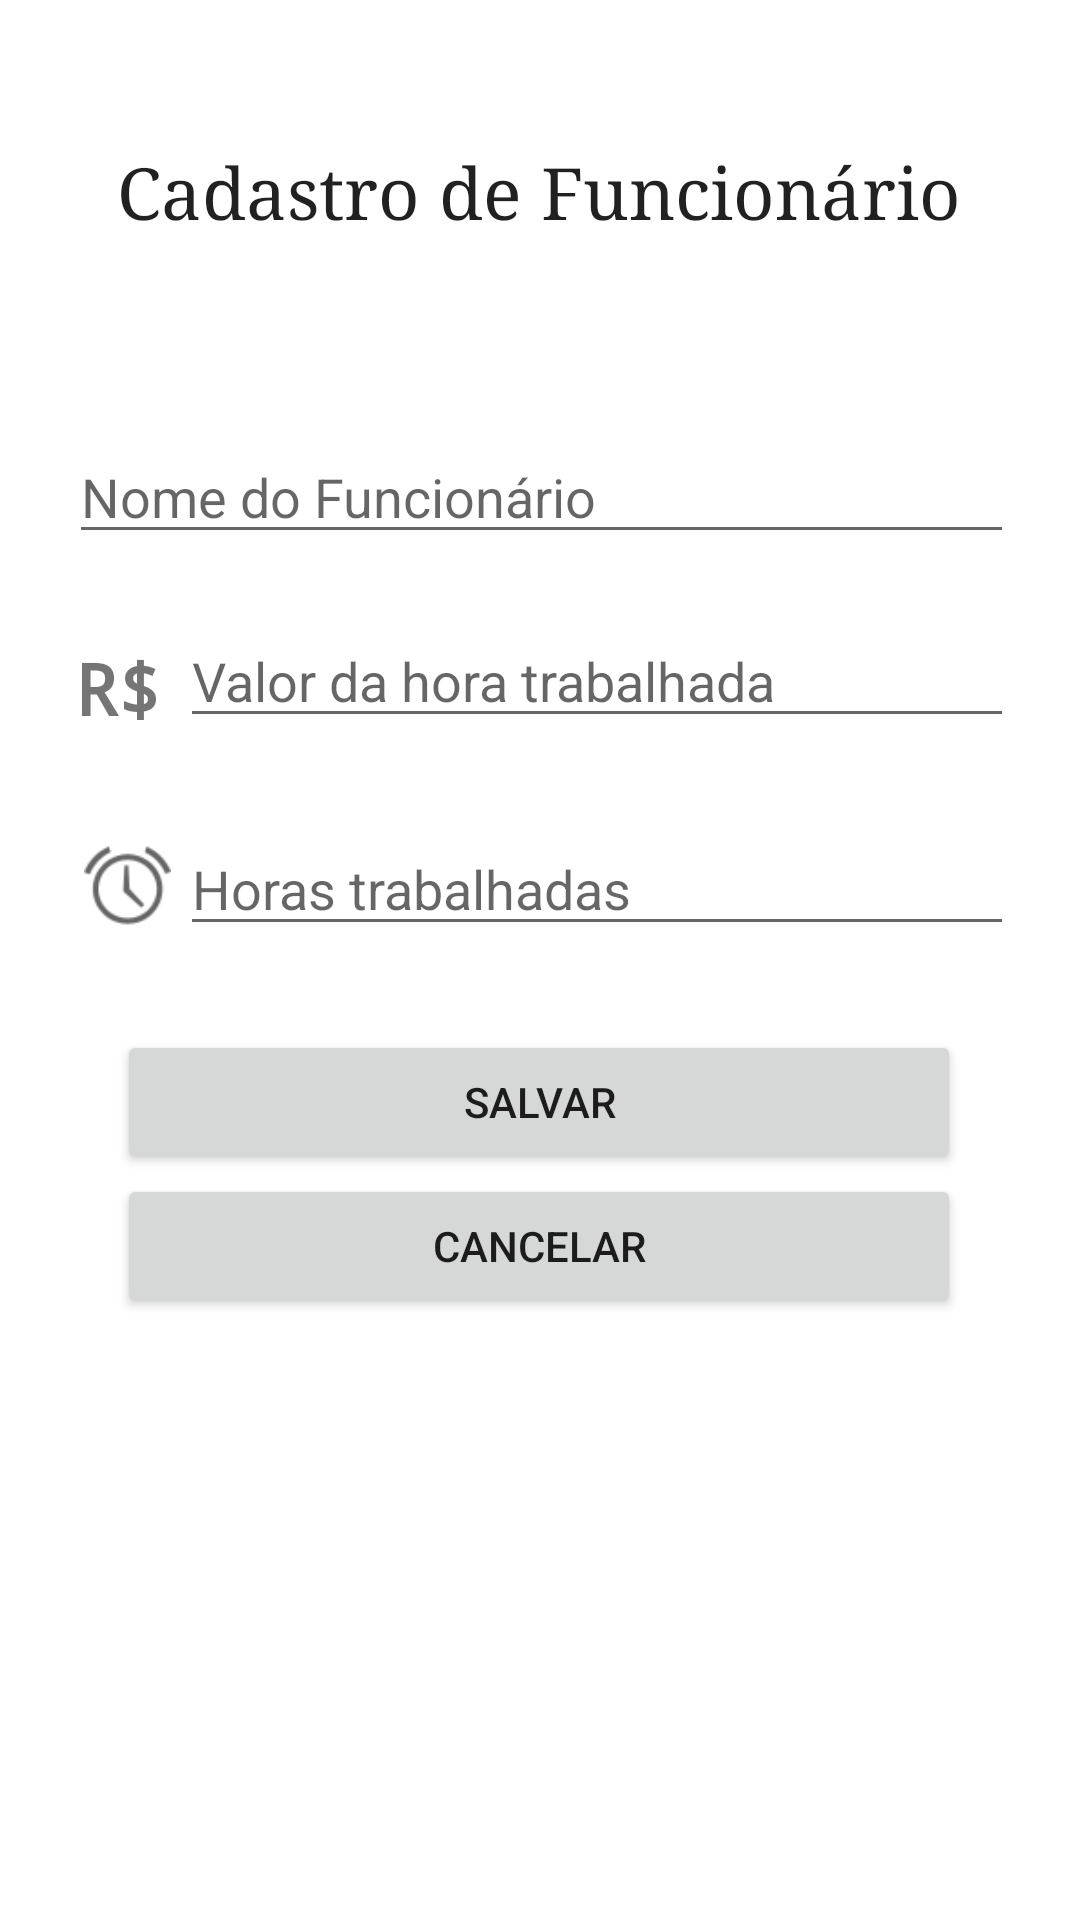

Screen size 1080×1920. Icon name, then its box in pixels as (x1, y1, x2, y2):
lock idle alarm: (84, 846, 171, 925)
